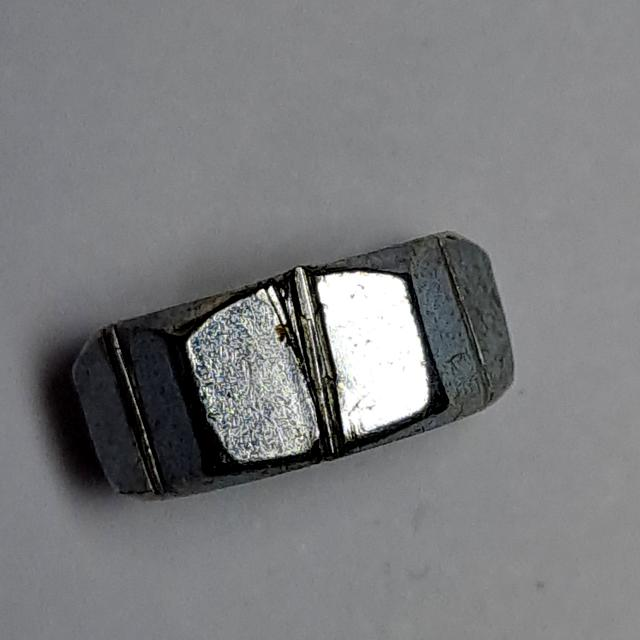Side_Scratches: (61, 224, 530, 511)
